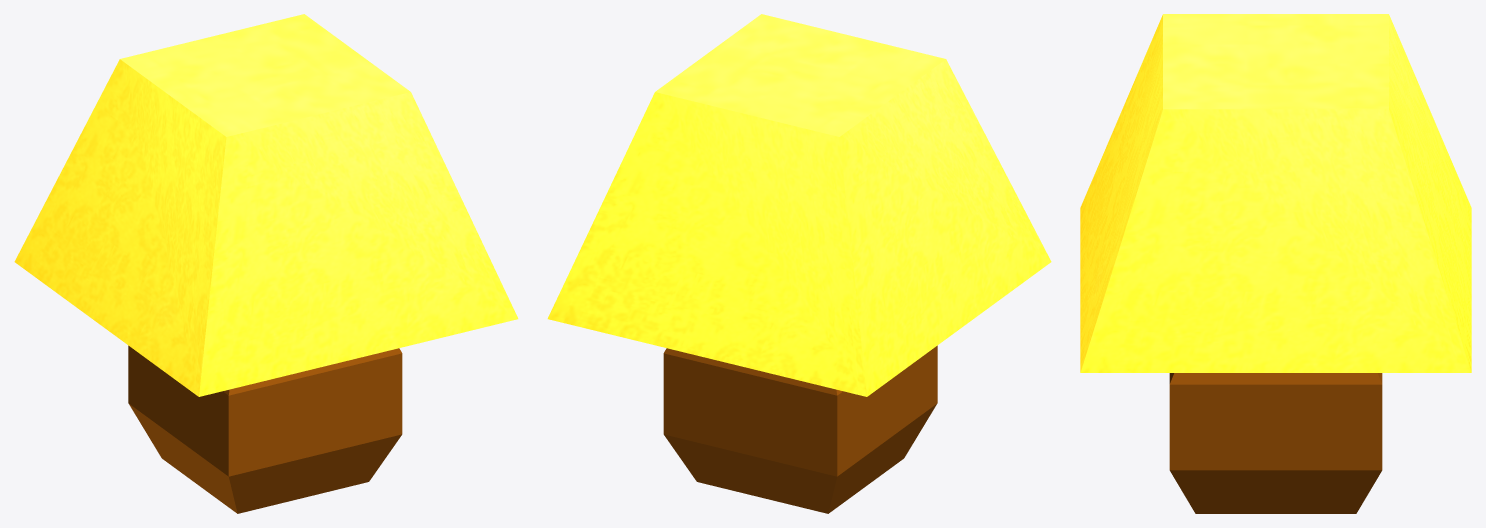
Rendered from tablelamp.fbx.
The picture shows the model from 3 angles, left to right: view 1: azimuth 30°, elevation 25°; view 2: azimuth 150°, elevation 25°; view 3: azimuth 270°, elevation 25°; orthographic projection. The views are drawn at different scales.
Visible parts, largest first — view 1: Cube.001; view 2: Cube.001; view 3: Cube.001.
Part boxes in pixels (x1=…): Cube.001: x1=14, y1=14, x2=518, y2=513; Cube.001: x1=547, y1=14, x2=1051, y2=513; Cube.001: x1=1080, y1=14, x2=1471, y2=513.
Bounding box in the file's own units: 346 × 409 × 346.
